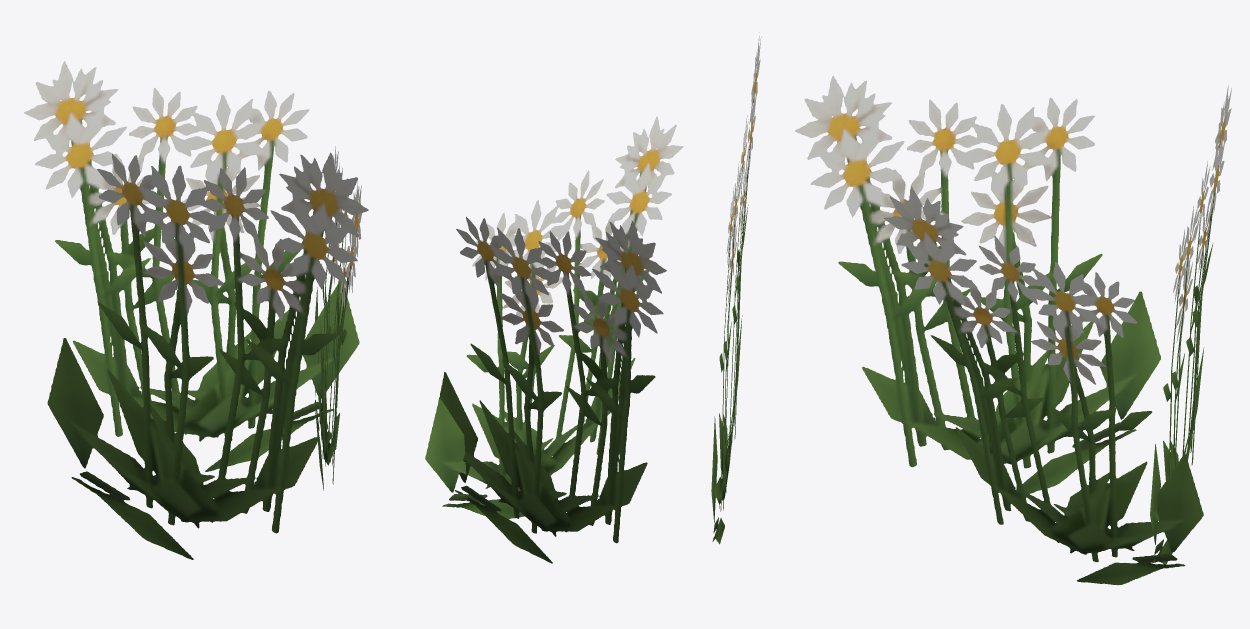
Rendered from flowers_white.glb.
The picture shows the model from 3 angles, left to right: view 1: azimuth 30°, elevation 25°; view 2: azimuth 150°, elevation 25°; view 3: azimuth 270°, elevation 25°; orthographic projection. The views are drawn at different scales.
Parts seen in each view (by area): view 1: flowers_white_mesh; view 2: flowers_white_mesh; view 3: flowers_white_mesh.
Part boxes in pixels (box(x1,y1,x2,y2)): flowers_white_mesh: box(24, 61, 368, 559); flowers_white_mesh: box(425, 32, 761, 563); flowers_white_mesh: box(795, 75, 1231, 585).
Bounding box in the file's own units: 0.3496 × 0.4525 × 0.4035.
Materials: 1 (1 with a texture image).
